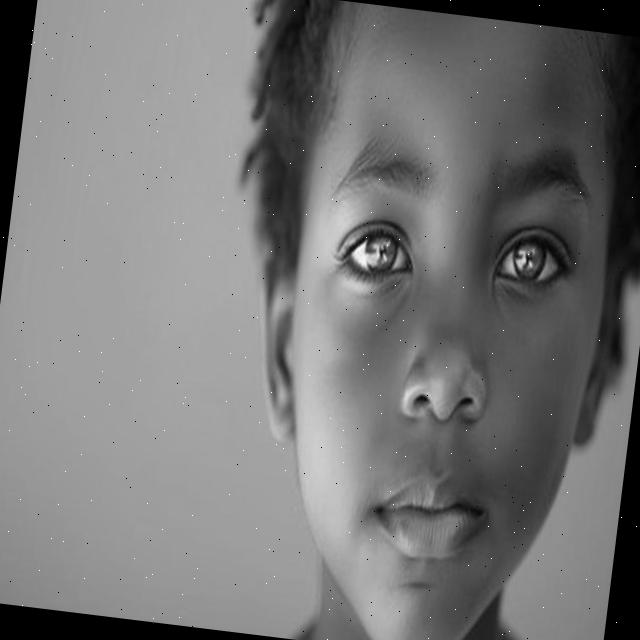Neutral: (249, 0, 635, 640)
